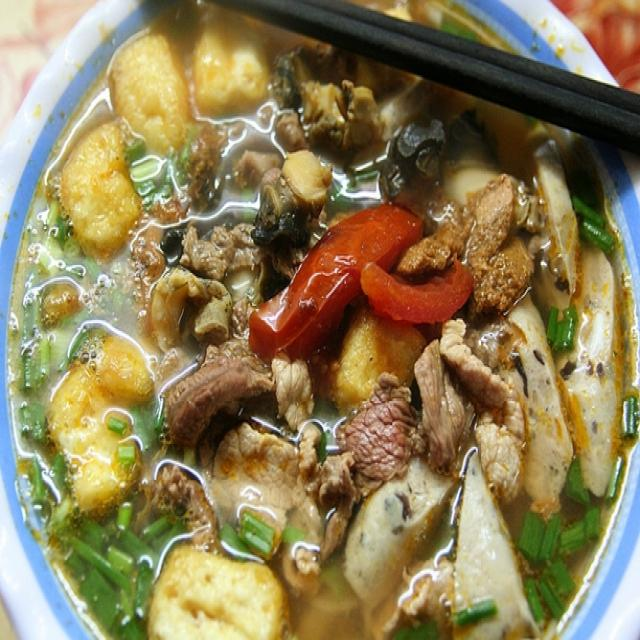面条主食: (1, 1, 623, 634)
